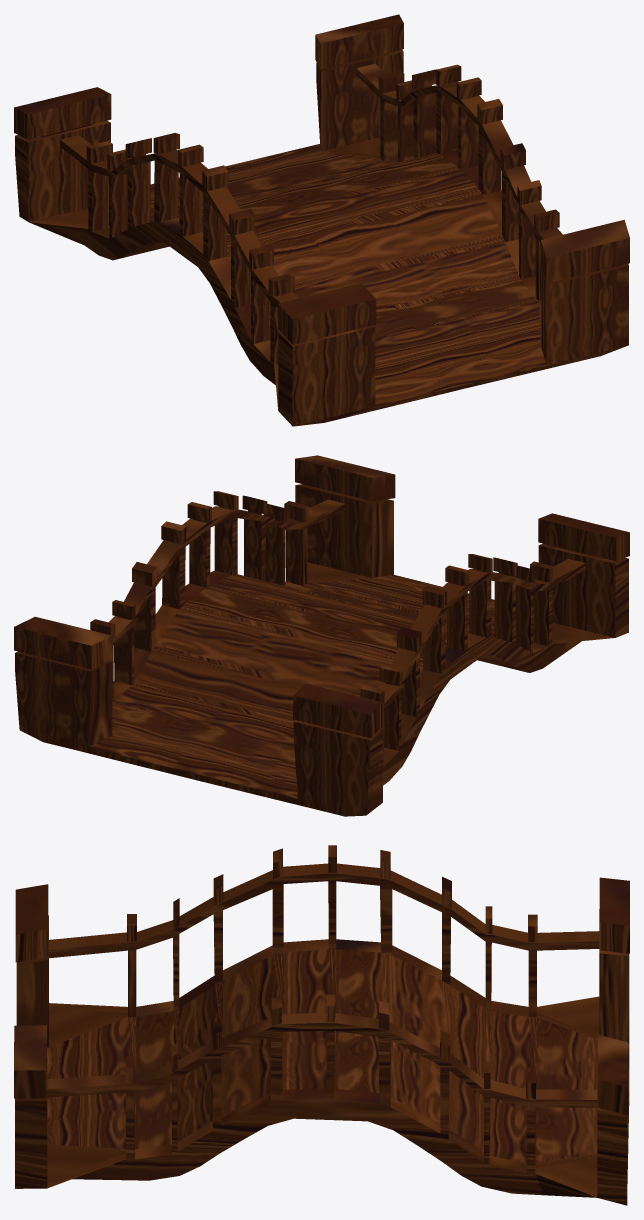
Rendered from bridge.fbx.
The picture shows the model from 3 angles, top to bottom: view 1: azimuth 30°, elevation 25°; view 2: azimuth 150°, elevation 25°; view 3: azimuth 270°, elevation 25°; orthographic projection. The views are drawn at different scales.
Parts seen in each view (by area): view 1: pCube1; view 2: pCube1; view 3: pCube1.
Part boxes in pixels (box(x1,y1,x2,y2)): pCube1: box(14, 14, 629, 426); pCube1: box(14, 455, 629, 816); pCube1: box(14, 845, 629, 1205).
Bounding box in the file's own units: 505 × 210 × 636.
Materials: 1 (1 with a texture image).
